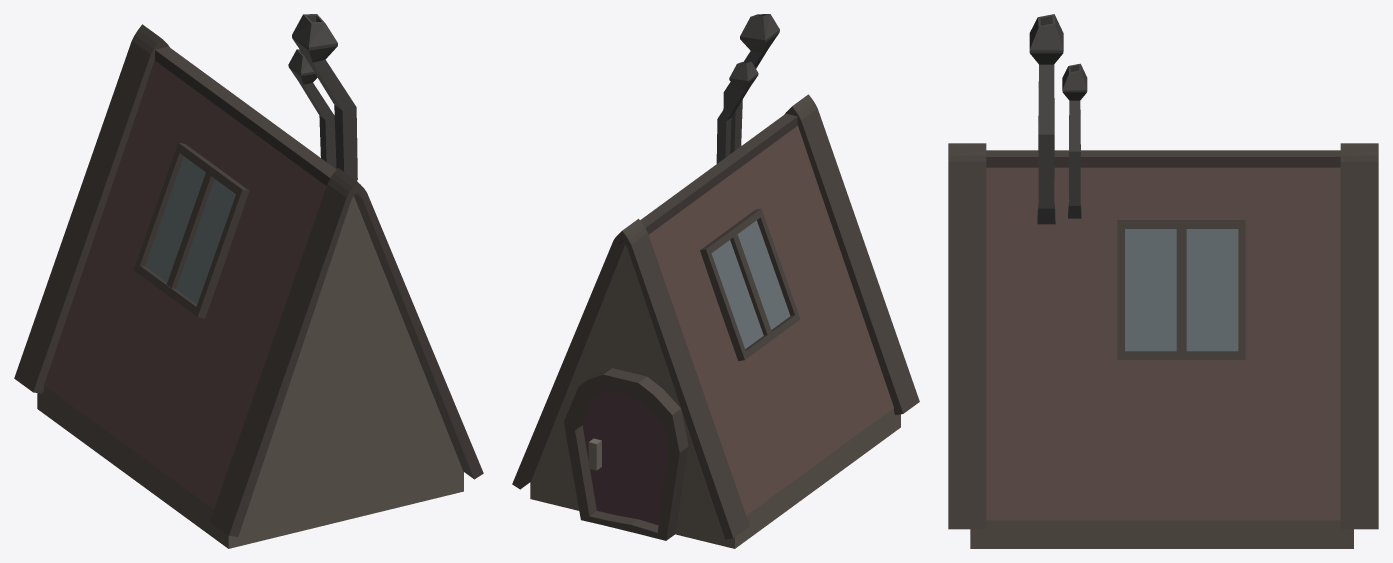
Rendered from Assembled_Hut_Double_Chimney.fbx.
The picture shows the model from 3 angles, left to right: view 1: azimuth 30°, elevation 25°; view 2: azimuth 150°, elevation 25°; view 3: azimuth 270°, elevation 25°; orthographic projection. The views are drawn at different scales.
Visible parts, largest first — view 1: Triangle_Double_Chimney; view 2: Triangle_Double_Chimney; view 3: Triangle_Double_Chimney.
Part boxes in pixels (x1,y1,x2,y2): Triangle_Double_Chimney: (14,14,483,548); Triangle_Double_Chimney: (512,14,919,548); Triangle_Double_Chimney: (948,14,1378,548).
Size of the model in its own units: 3.24 by 5.77 by 4.72.
